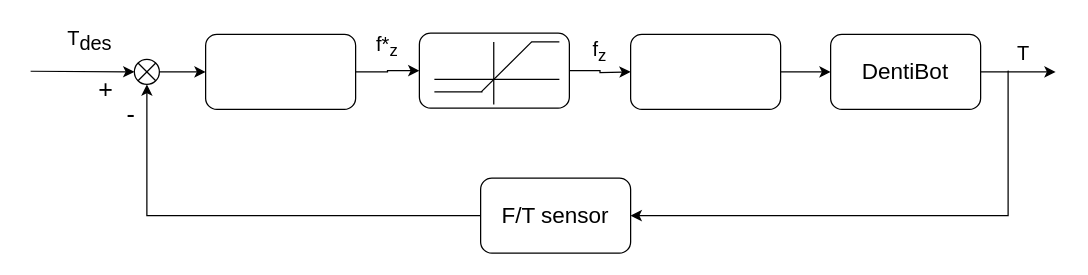
Image size: 1088x275. Some labels were removed from this diagram. The centre of each missing label's shape, as x and y in pixels:
"Admittance Control" belongs at (x=705, y=71).
"PD Controller" belongs at (x=280, y=71).
